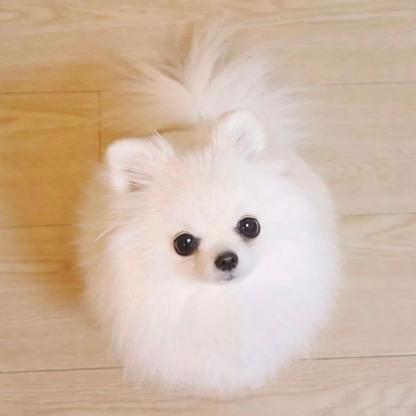Pomeranian: (68, 72, 354, 397)
